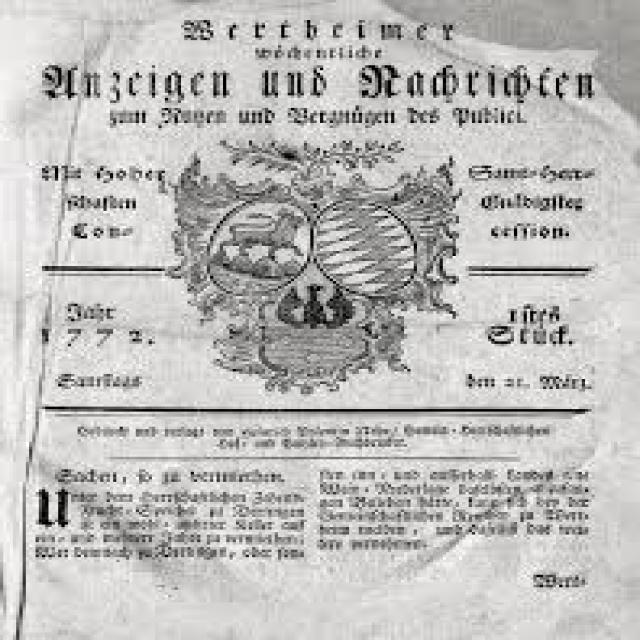paper: (8, 4, 602, 640)
